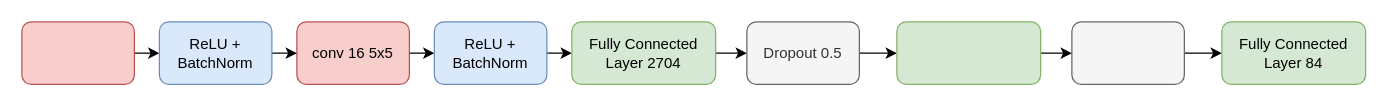
This 1388x106 diagram has some shape labels left out. The shapes that lost their labels are listed below. From the top down, each one's box as (x1, y1, x2, y2) in pixels, then its label:
(21, 21, 134, 84): conv 6 5x5
(896, 21, 1041, 84): Fully Connected Layer 120
(1071, 21, 1184, 84): Dropout 0.4
